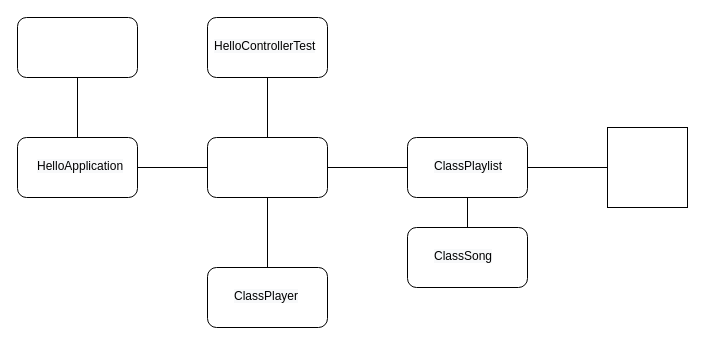
The diagram is 705 pixels wide and 345 high, and some of its shapes have lost their labels. The shapes that lost their labels are listed below. From the top down, each one's centre as x and y in pixels, then its label:
the point at 77,47: HelloApplicationTest
the point at 267,167: HelloController
the point at 647,167: Interface
